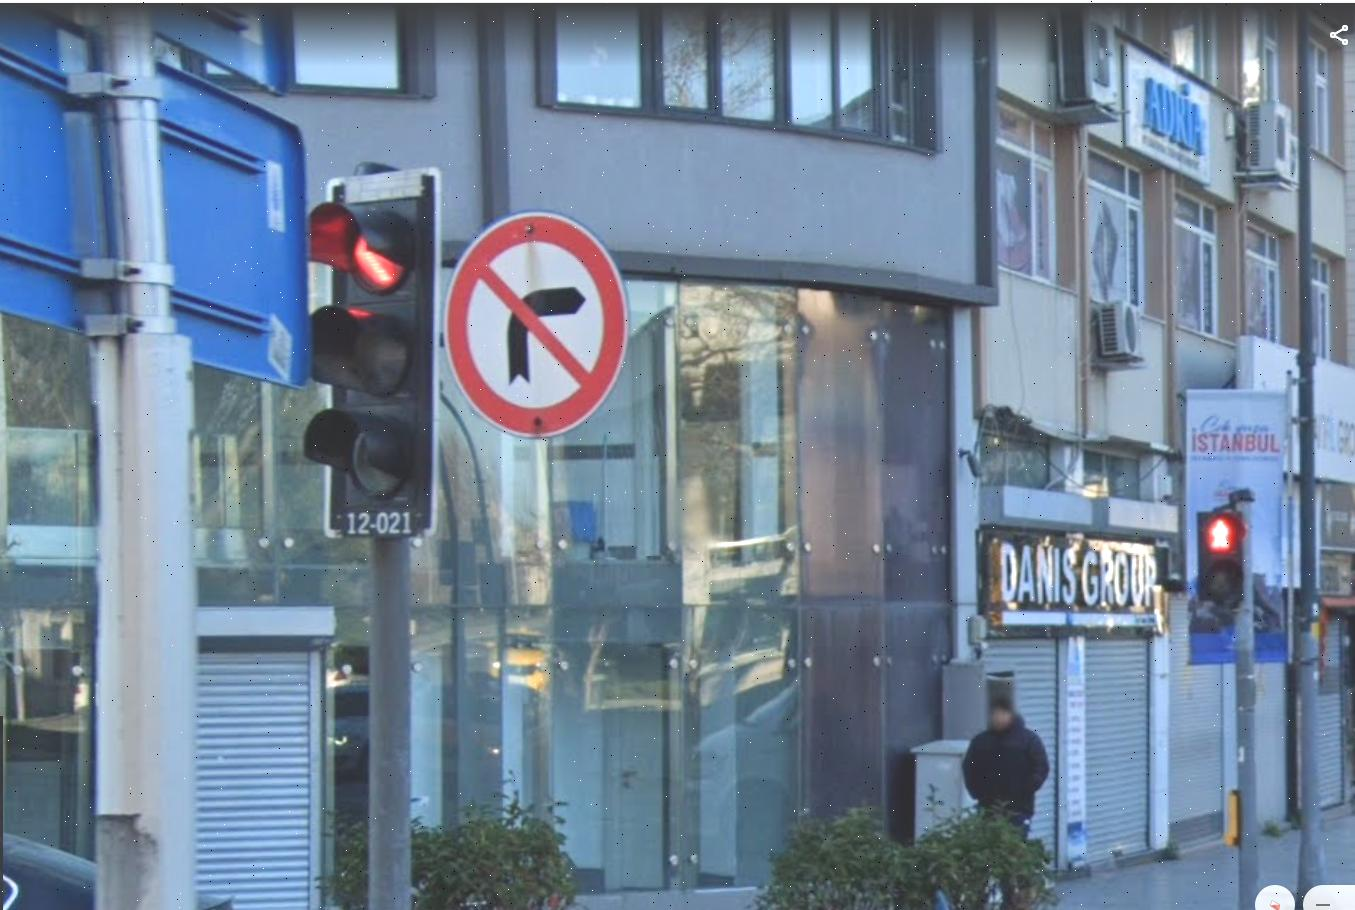redlight: (326, 180, 438, 509)
rightturnsareforbidden: (455, 226, 615, 424)
